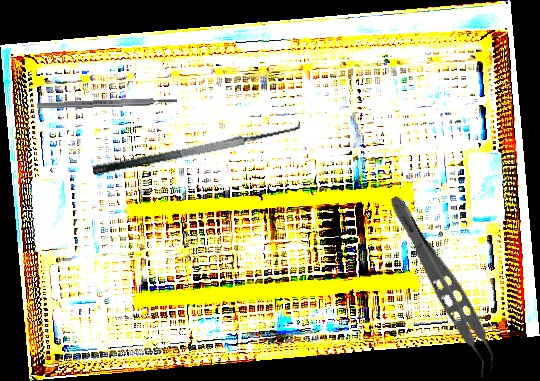Scalpel Handle: (36, 96, 178, 110)
Spatula Surgical: (89, 110, 303, 178)
Tissue Forceps: (372, 191, 509, 380)
